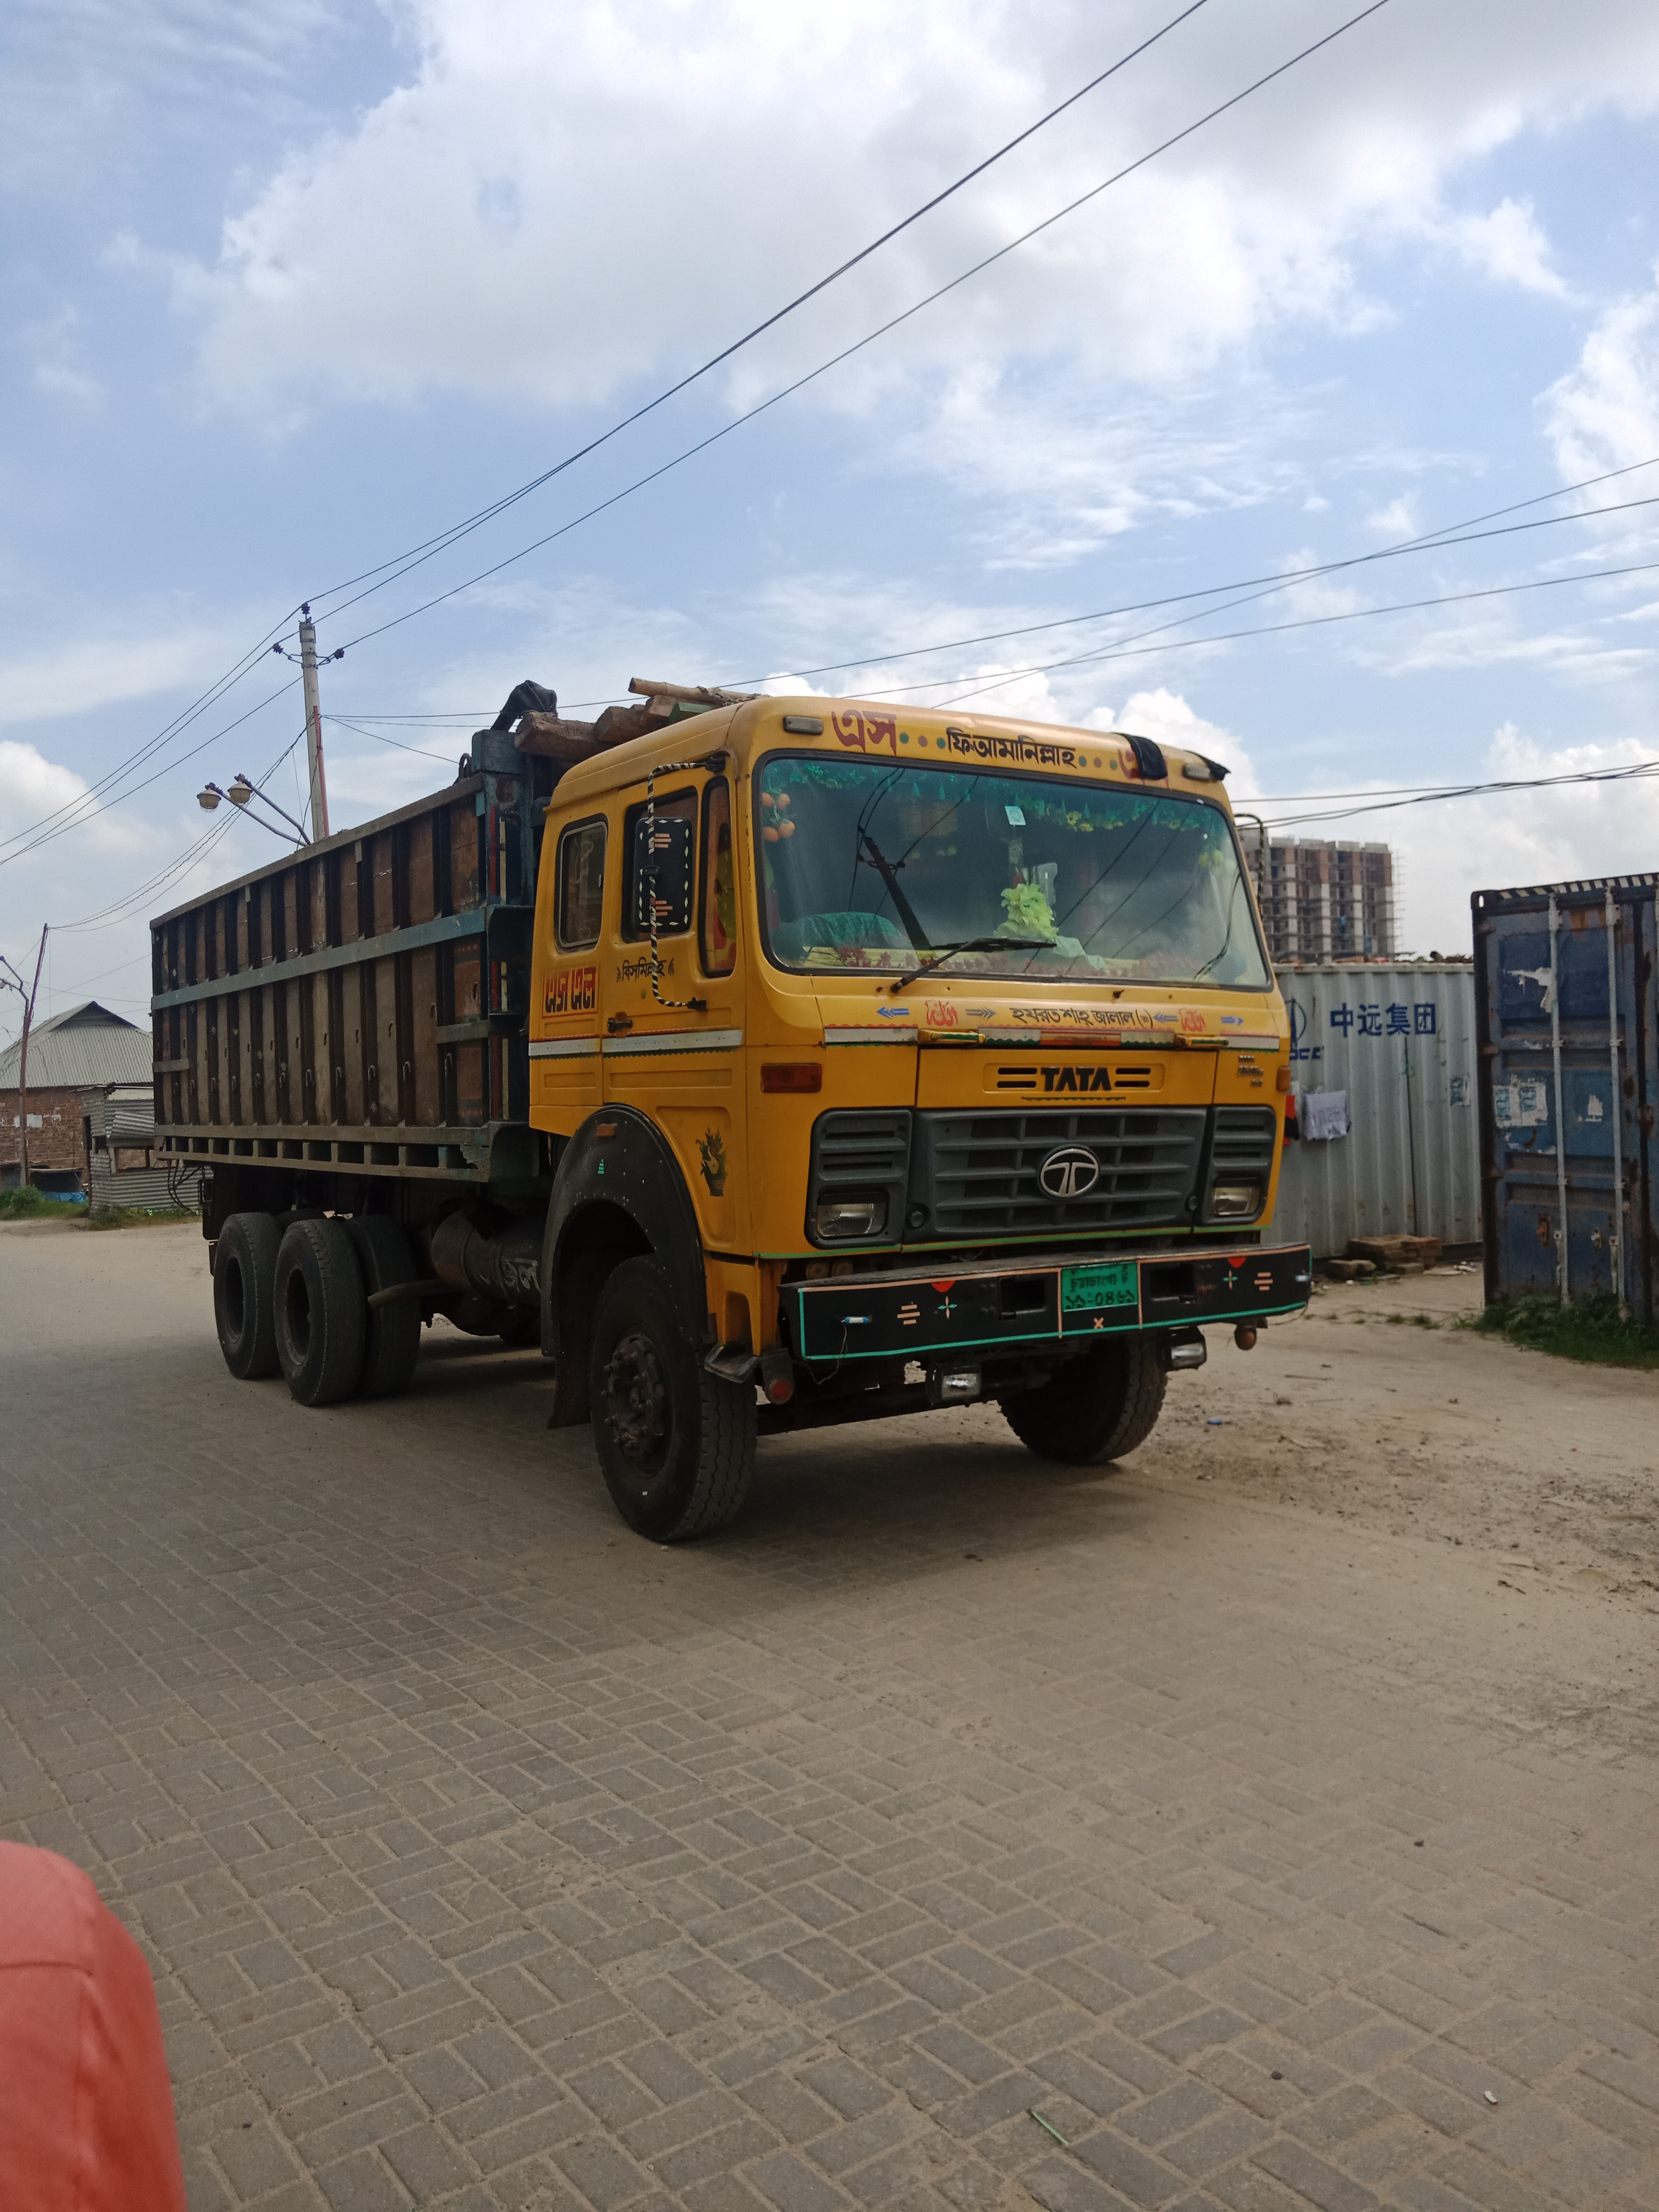truck: (101, 693, 1297, 1519)
